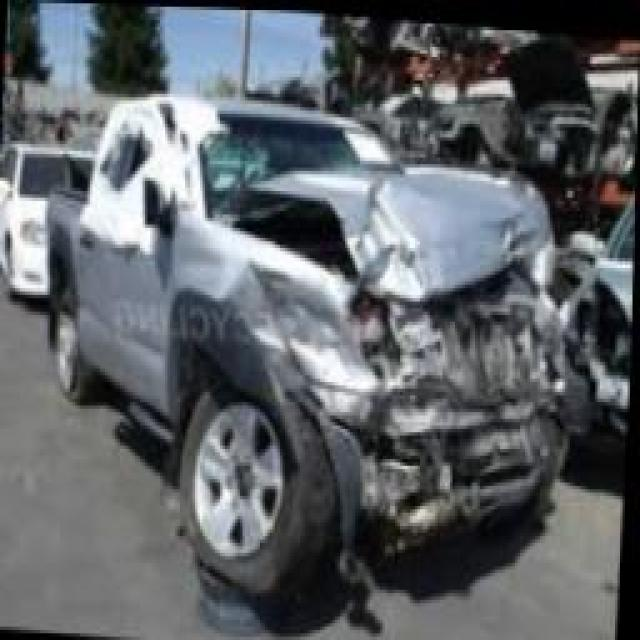Bonnet: (219, 162, 549, 290)
Bumper: (313, 372, 578, 536)
Fender: (181, 222, 297, 388)
Light: (366, 297, 425, 375)
